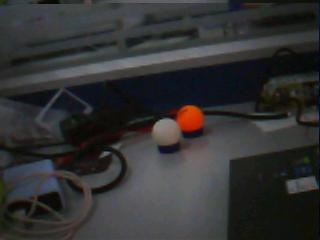oball: (177, 106, 205, 130)
